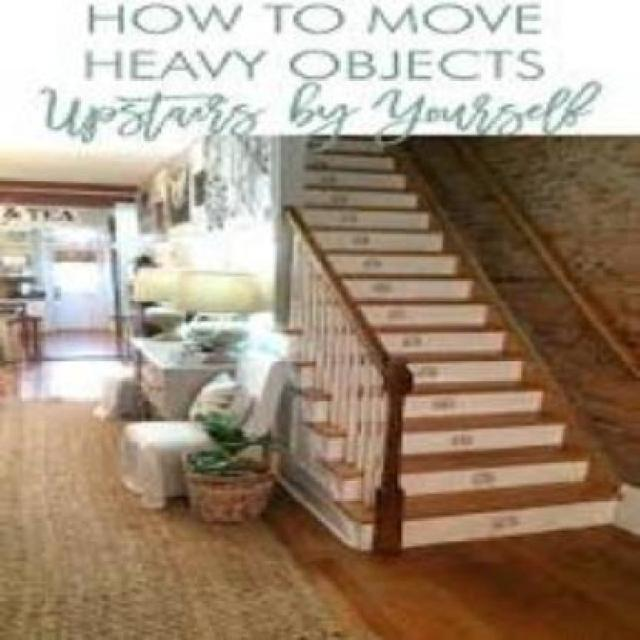stair: (303, 153, 632, 558)
